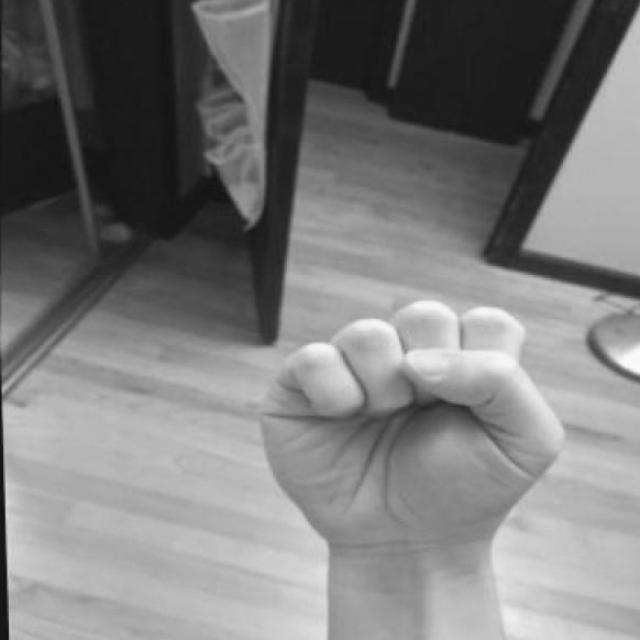S: (245, 299, 580, 580)
